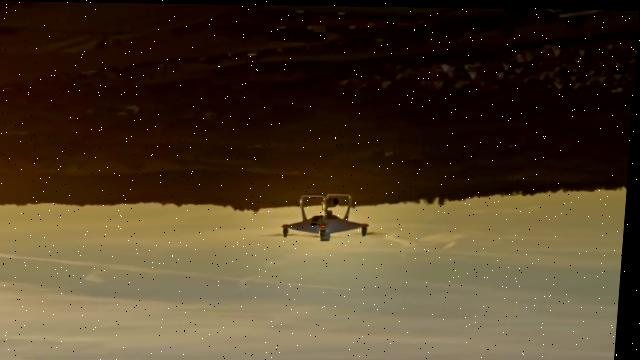drone: (262, 188, 394, 242)
